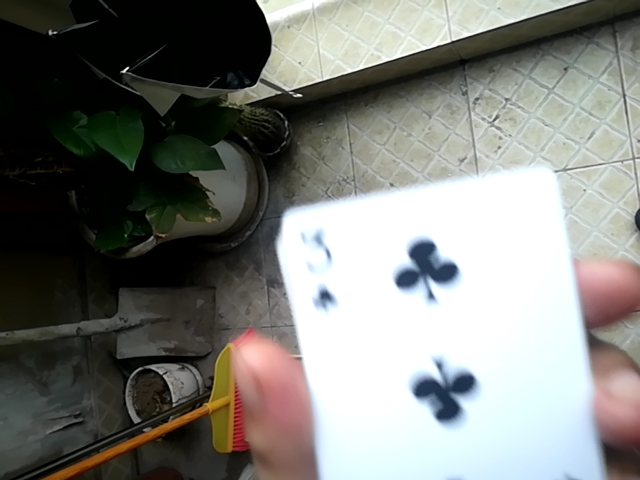mh 3: (279, 158, 615, 480)
